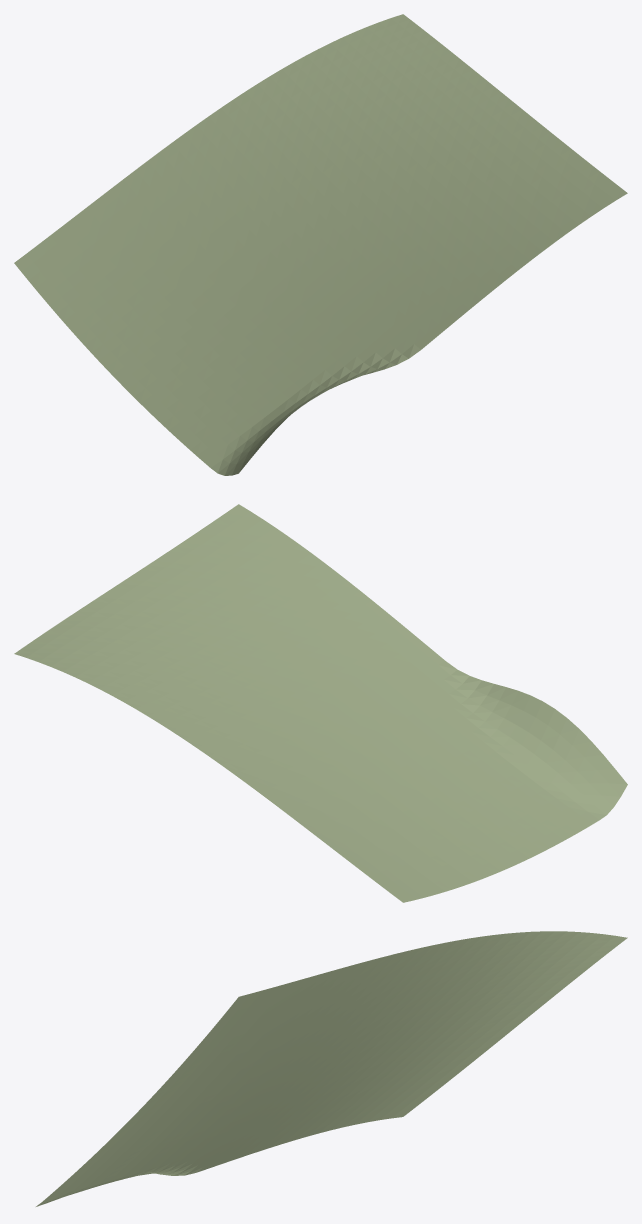
Rendered from expanse-28-24.glb.
3 views of the same model, one above another, from view 1: azimuth 30°, elevation 25°; view 2: azimuth 150°, elevation 25°; view 3: azimuth 330°, elevation 25° (orthographic).
Visible parts, largest first — view 1: expanse-28-24; view 2: expanse-28-24; view 3: expanse-28-24.
Part boxes in pixels (left/top/right/bottom): expanse-28-24: left=14, top=14, right=627, bottom=475; expanse-28-24: left=14, top=504, right=627, bottom=902; expanse-28-24: left=36, top=931, right=627, bottom=1206.
Bounding box in the file's own units: 256 × 135 × 256.
